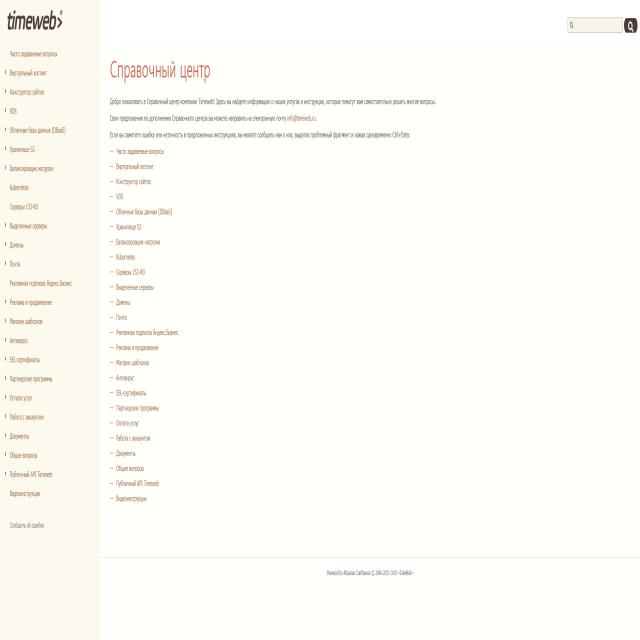menu-panel: (2, 45, 100, 536)
search: (566, 15, 624, 33)
